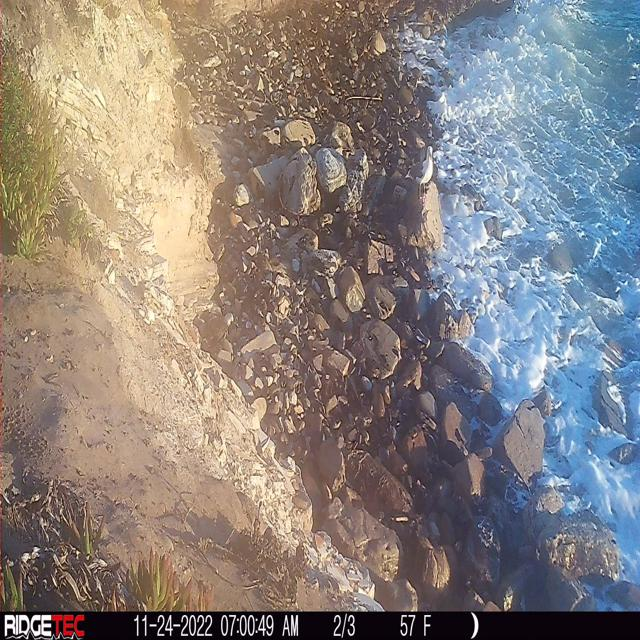bird: (400, 143, 437, 196)
